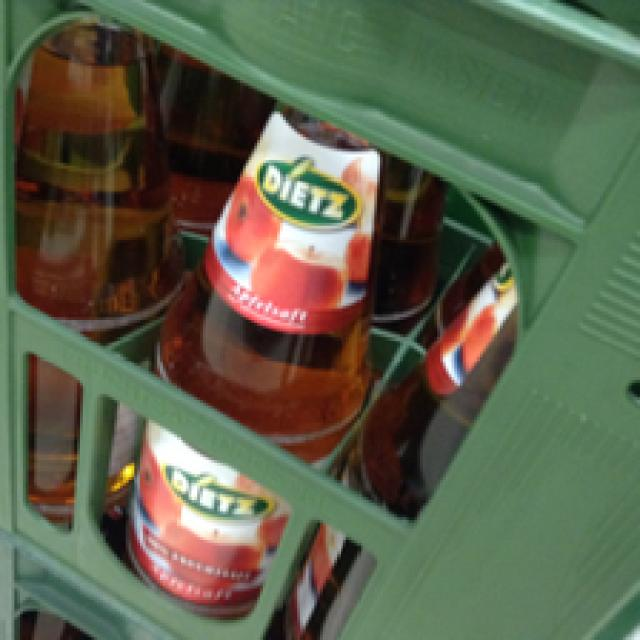groceries: (129, 86, 374, 617), (11, 14, 180, 532)
